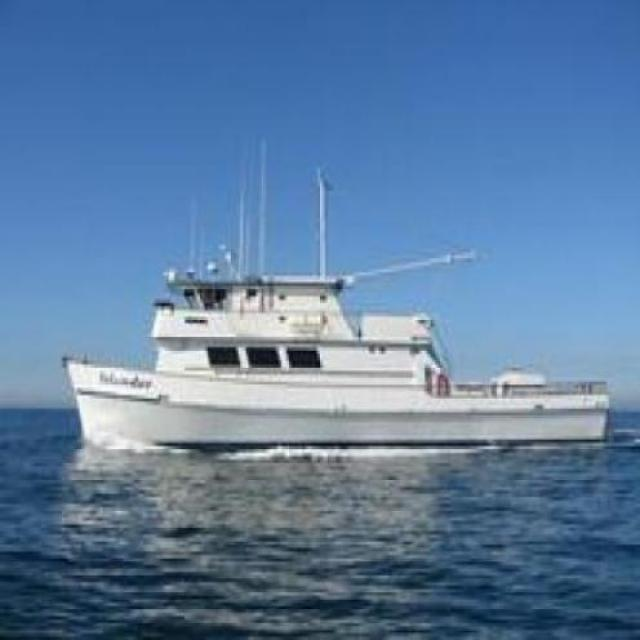boat: (49, 270, 619, 454)
